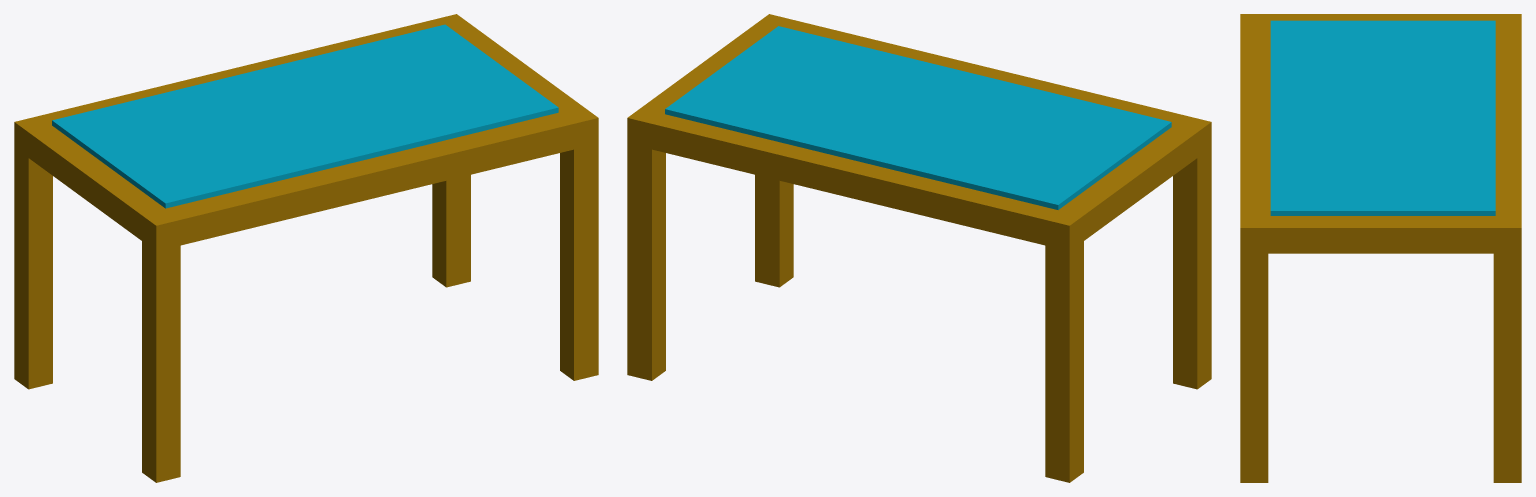
File: Table.glb
The picture shows the model from 3 angles, left to right: view 1: azimuth 30°, elevation 25°; view 2: azimuth 150°, elevation 25°; view 3: azimuth 270°, elevation 25°; orthographic projection.
Parts seen in each view (by area): view 1: Mesh_Mesh_head_geo.001_lambert2SG.001; view 2: Mesh_Mesh_head_geo.001_lambert2SG.001; view 3: Mesh_Mesh_head_geo.001_lambert2SG.001.
Boxes of the visible parts, x1,y1,x2,y2 form: Mesh_Mesh_head_geo.001_lambert2SG.001: [14, 14, 598, 482]; Mesh_Mesh_head_geo.001_lambert2SG.001: [627, 14, 1211, 482]; Mesh_Mesh_head_geo.001_lambert2SG.001: [1240, 14, 1521, 482].
Bounding box in the file's own units: 90 × 51 × 50.
